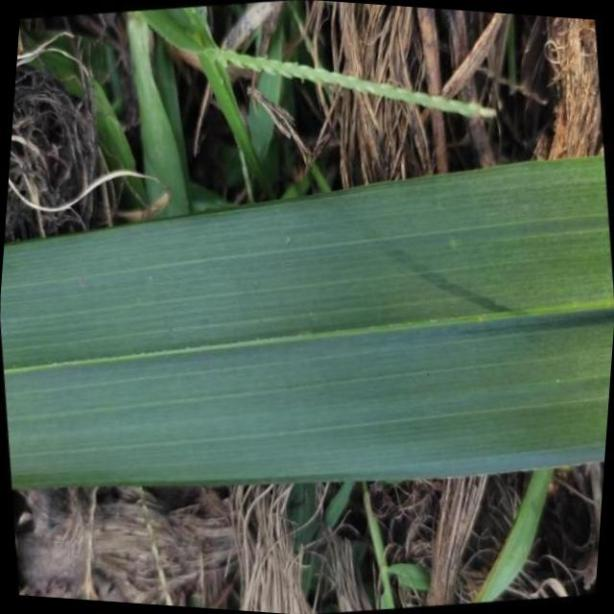Healthy: (1, 155, 614, 489)
